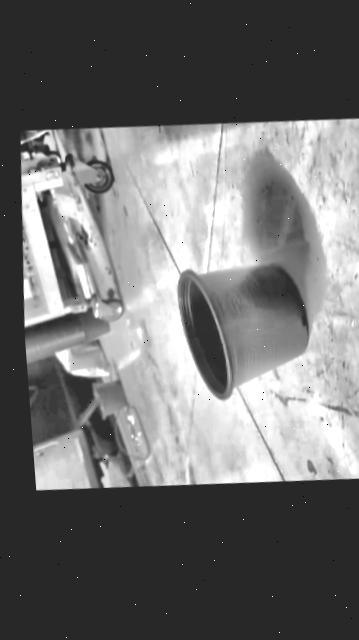pot: (176, 264, 305, 398)
